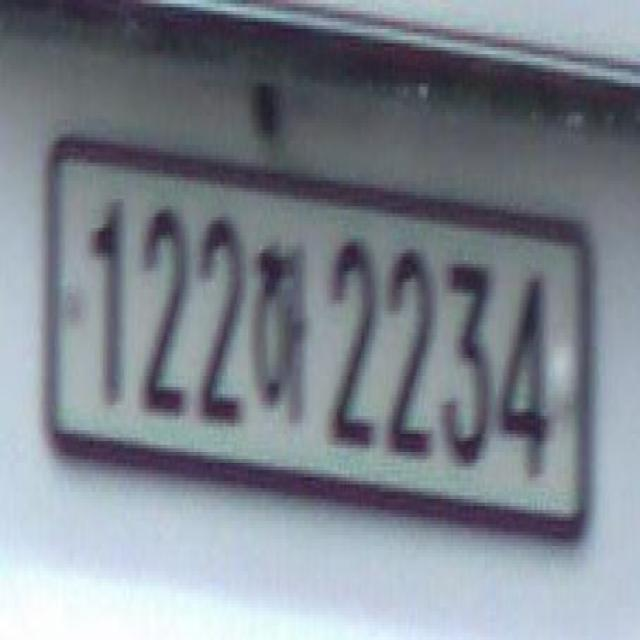illegal_plate: (39, 141, 596, 549)
